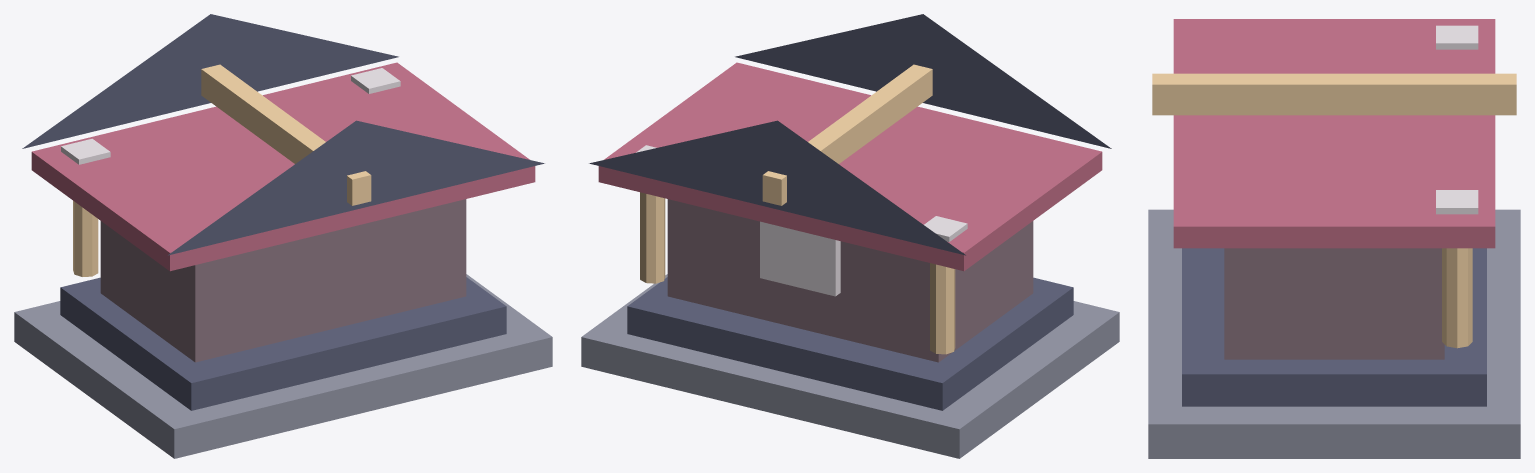
Rendered from dojo_kitsune_shrine_altar_lod0.gltf.
The picture shows the model from 3 angles, left to right: view 1: azimuth 30°, elevation 25°; view 2: azimuth 150°, elevation 25°; view 3: azimuth 270°, elevation 25°; orthographic projection. The views are drawn at different scales.
Visible parts, largest first — view 1: dojo_kitsune_shrine_altar; view 2: dojo_kitsune_shrine_altar; view 3: dojo_kitsune_shrine_altar.
Boxes of the visible parts, x1,y1,x2,y2 form: dojo_kitsune_shrine_altar: (14, 14, 552, 458); dojo_kitsune_shrine_altar: (581, 14, 1119, 458); dojo_kitsune_shrine_altar: (1148, 19, 1520, 458).
Size of the model in its own units: 6 by 4.35 by 4.4.
